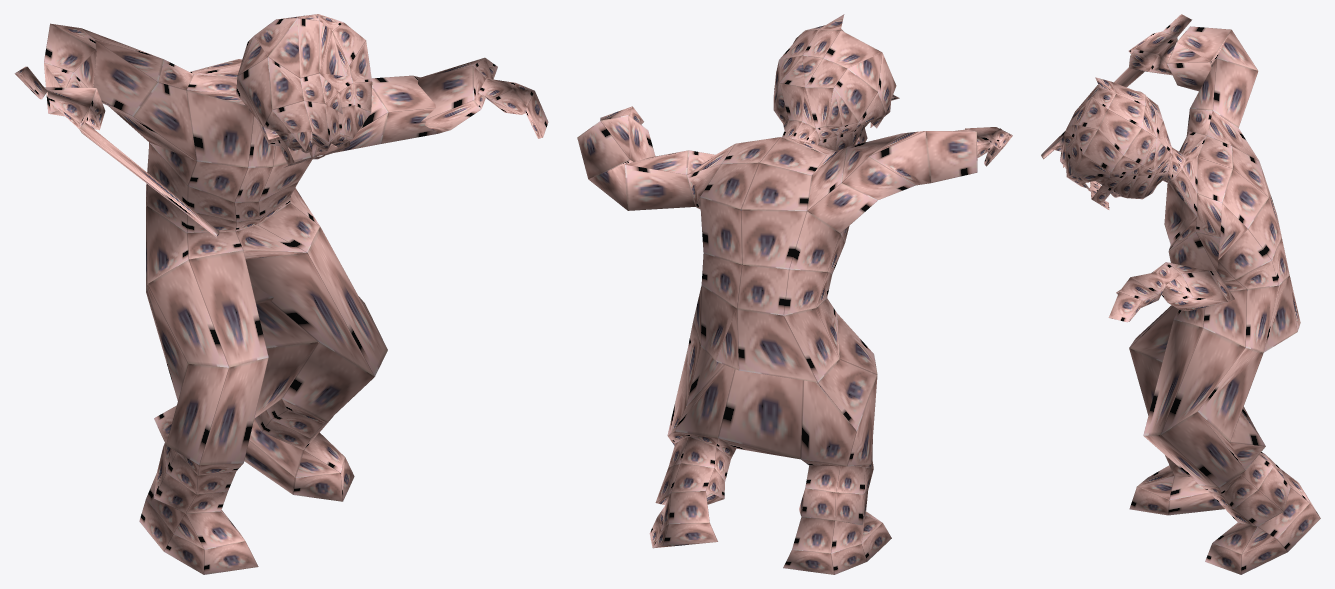
3 views of the same model, side by side, from view 1: azimuth 30°, elevation 25°; view 2: azimuth 150°, elevation 25°; view 3: azimuth 270°, elevation 25° (orthographic). The views are drawn at different scales.
Parts seen in each view (by area): view 1: T1L4M001_20; view 2: T1L4M001_20; view 3: T1L4M001_20.
Boxes of the visible parts, left/top/right/bottom form: T1L4M001_20: left=14, top=14, right=548, bottom=574; T1L4M001_20: left=577, top=14, right=1012, bottom=574; T1L4M001_20: left=1041, top=14, right=1320, bottom=574.
Size of the model in its own units: 1.06 by 1.16 by 0.6551.
